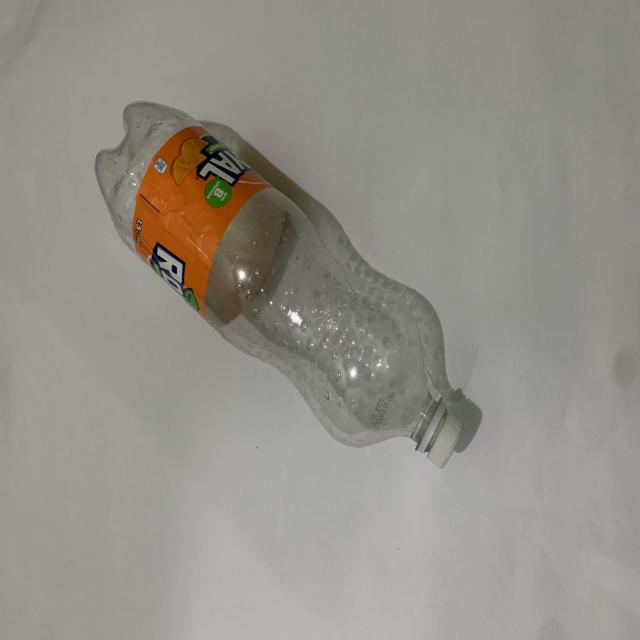bottle: (85, 87, 490, 480)
